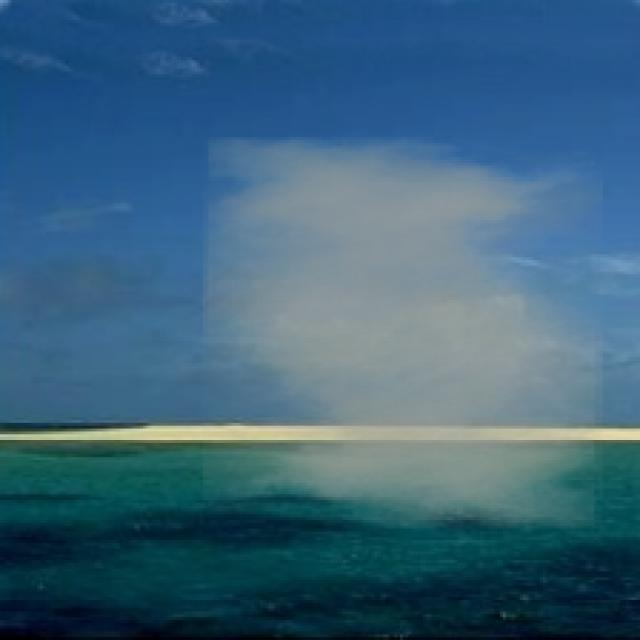smoke: (203, 137, 603, 529)
